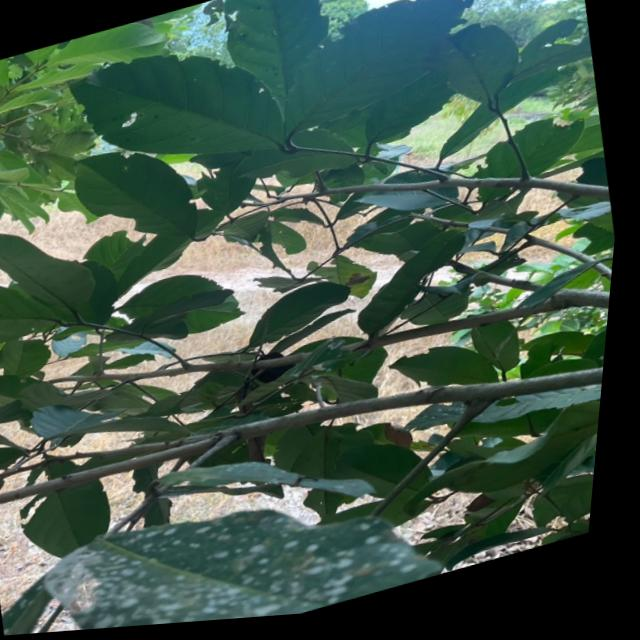Algal Leaf Spot: (34, 451, 456, 635)
